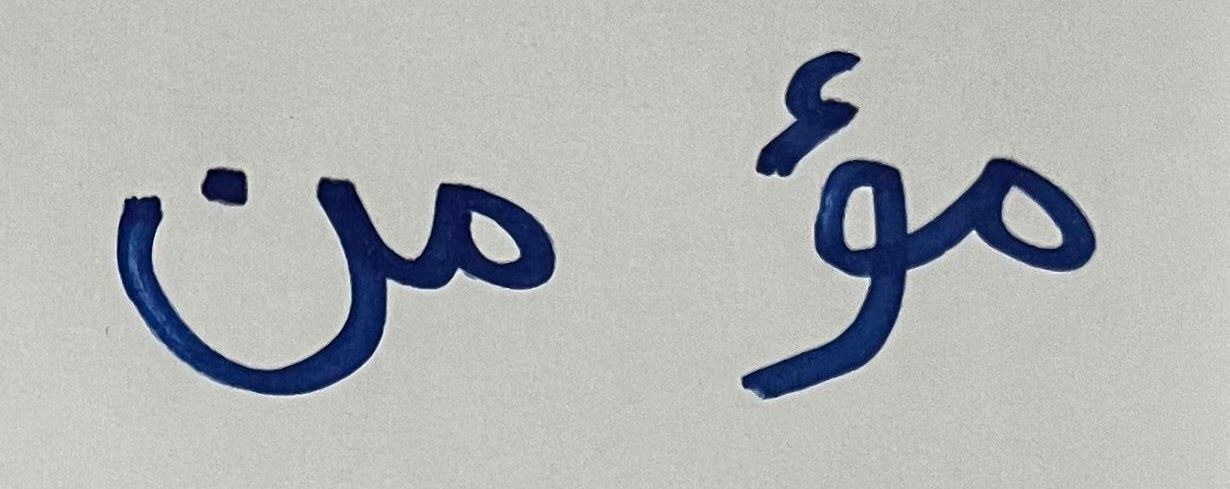meem: (401, 95, 640, 410), (935, 98, 1154, 355)
noon: (95, 55, 396, 442)
waw: (652, 7, 928, 422)
